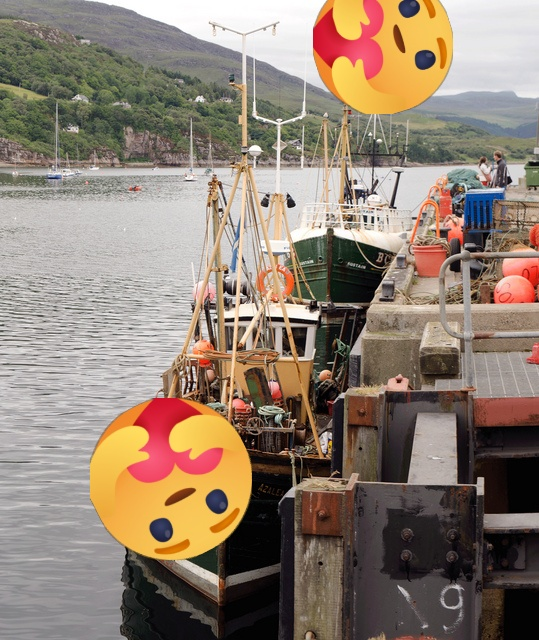care: (90, 398, 252, 560), (313, 0, 453, 114)
